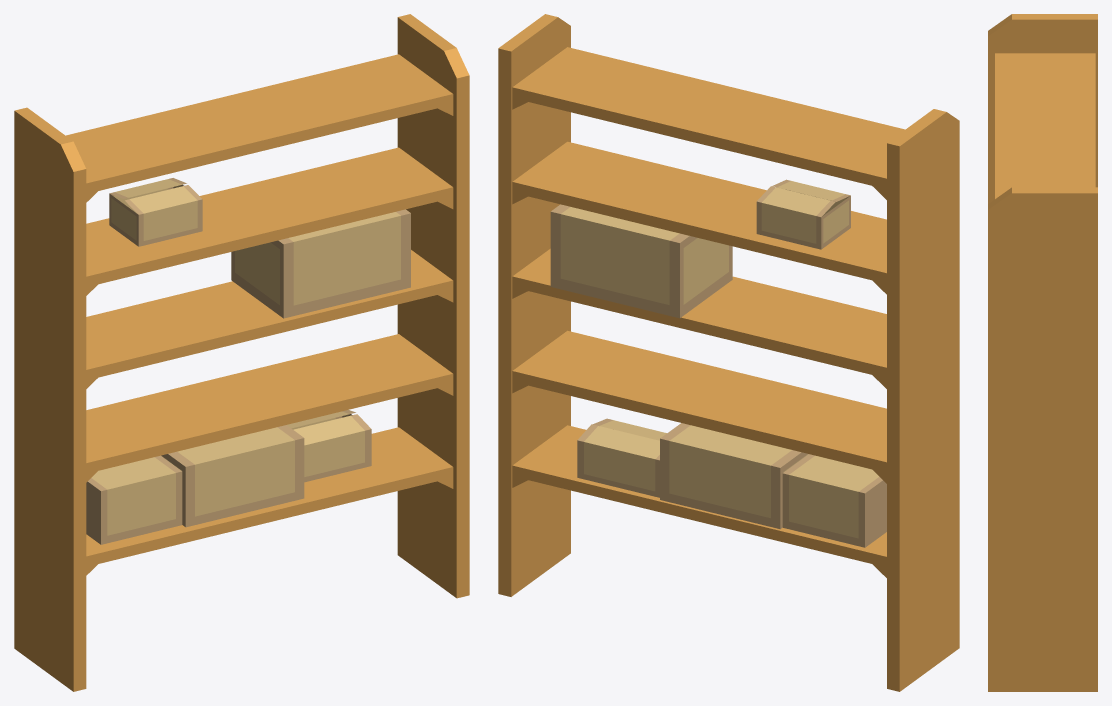
File: shelf_wbox.glb
The picture shows the model from 3 angles, left to right: view 1: azimuth 30°, elevation 25°; view 2: azimuth 150°, elevation 25°; view 3: azimuth 270°, elevation 25°; orthographic projection. The views are drawn at different scales.
Visible parts, largest first — view 1: shelf_wbox; view 2: shelf_wbox; view 3: shelf_wbox.
Part boxes in pixels (box(x1,y1,x2,y2)): shelf_wbox: box(14, 14, 469, 691); shelf_wbox: box(498, 14, 959, 691); shelf_wbox: box(988, 14, 1097, 691).
Bounding box in the file's own units: 1.86 × 2.42 × 0.4816.
